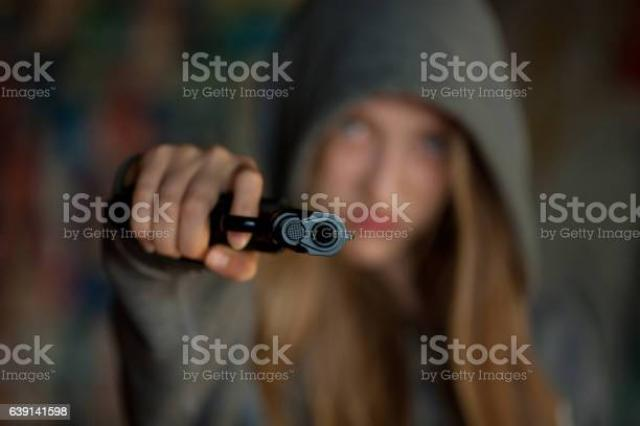handgun: (198, 188, 358, 262)
